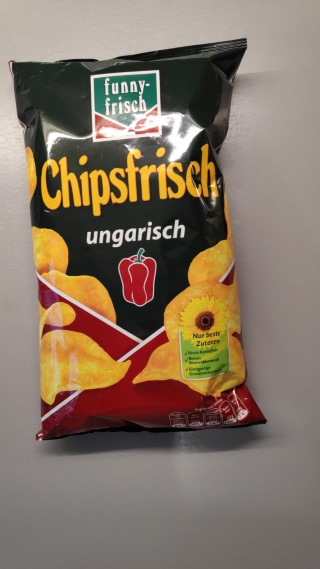chipsfrisch: (7, 36, 269, 444)
